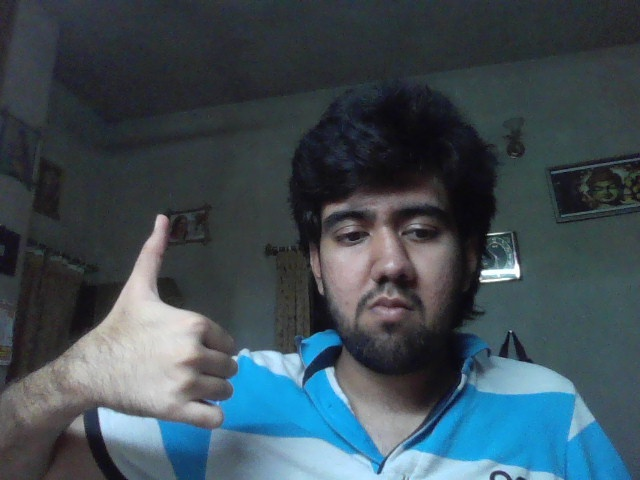Ok: (99, 214, 239, 428)
